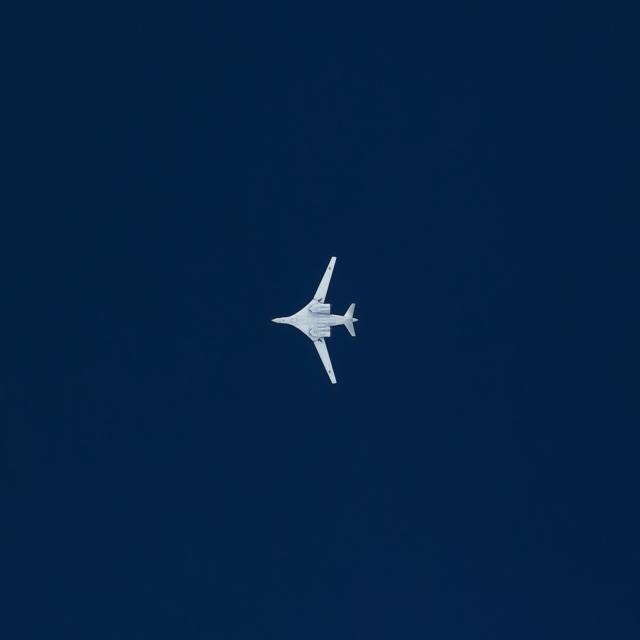MIL_Plane: (270, 256, 358, 384)
